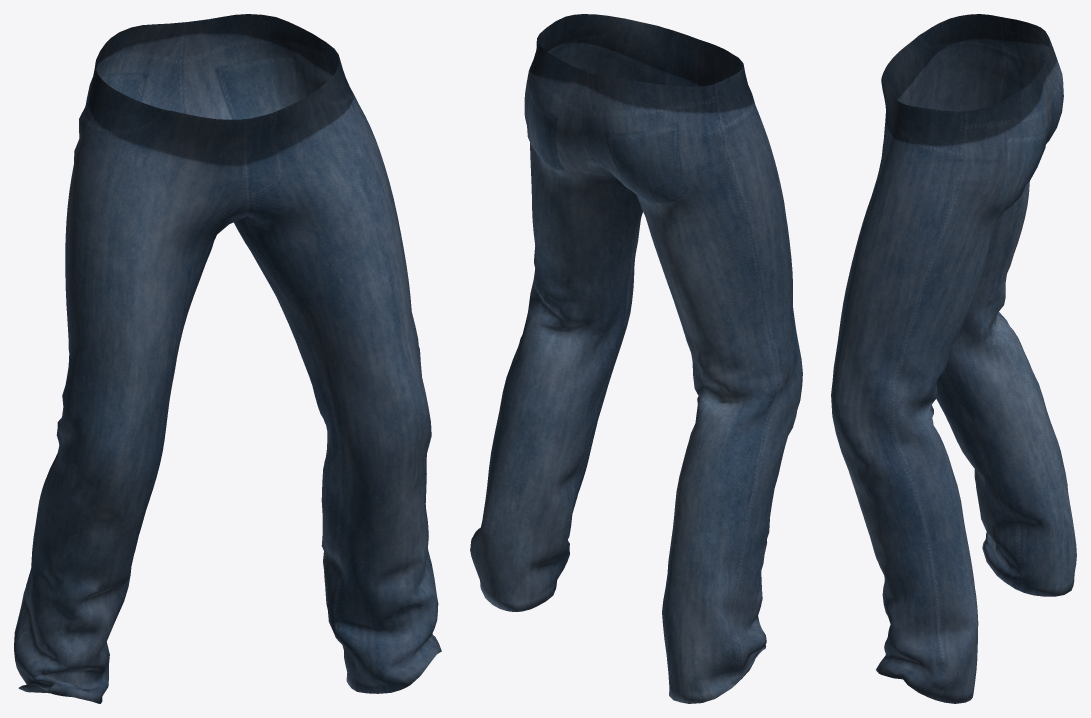
The model's file is pants.obj.
The picture shows the model from 3 angles, left to right: view 1: azimuth 30°, elevation 25°; view 2: azimuth 150°, elevation 25°; view 3: azimuth 270°, elevation 25°; orthographic projection. The views are drawn at different scales.
Visible parts, largest first — view 1: Ch01_Pants; view 2: Ch01_Pants; view 3: Ch01_Pants.
Boxes of the visible parts, bbox=[...] form: Ch01_Pants: bbox=[14, 14, 441, 703]; Ch01_Pants: bbox=[470, 14, 802, 703]; Ch01_Pants: bbox=[831, 14, 1076, 703].
Size of the model in its own units: 0.5283 by 0.9205 by 0.3542.
Materials: 1 (1 with a texture image).
